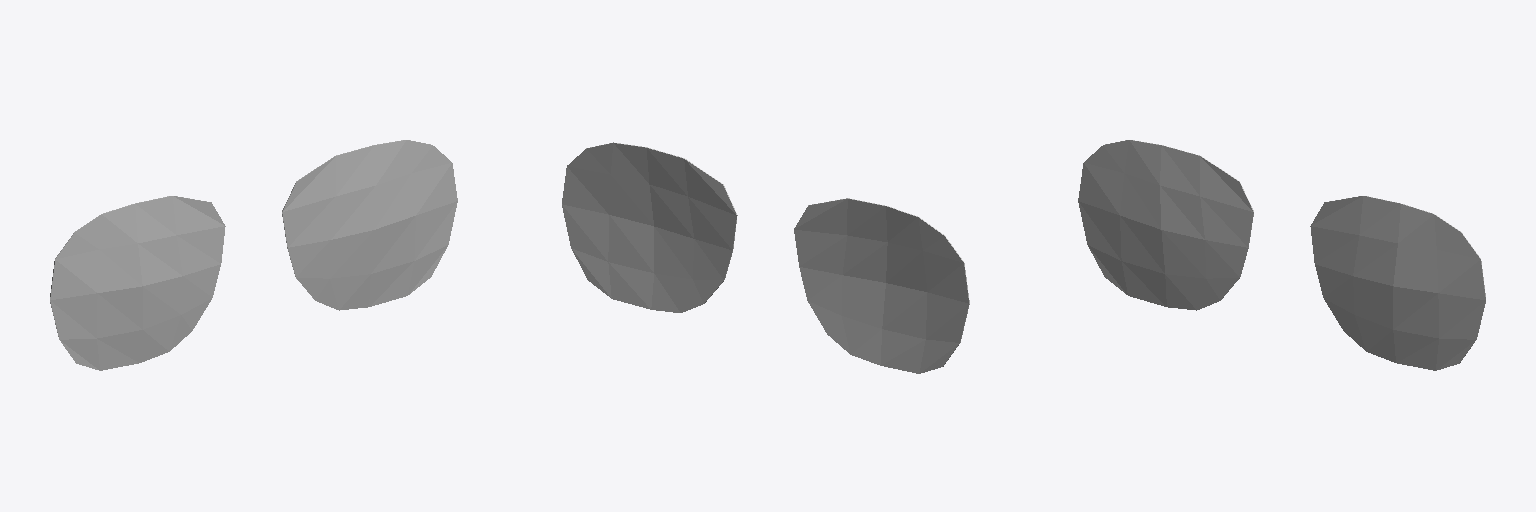
File: glasses_11_lenses.obj
3 views of the same model, side by side, from view 1: azimuth 30°, elevation 25°; view 2: azimuth 150°, elevation 25°; view 3: azimuth 330°, elevation 25° (orthographic).
Parts seen in each view (by area): view 1: Plane; view 2: Plane; view 3: Plane.
Part boxes in pixels (left/top/right/bottom): Plane: left=50, top=140, right=457, bottom=370; Plane: left=562, top=142, right=969, bottom=373; Plane: left=1078, top=140, right=1485, bottom=370.
Size of the model in its own units: 0.134 by 0.0505 by 0.003.